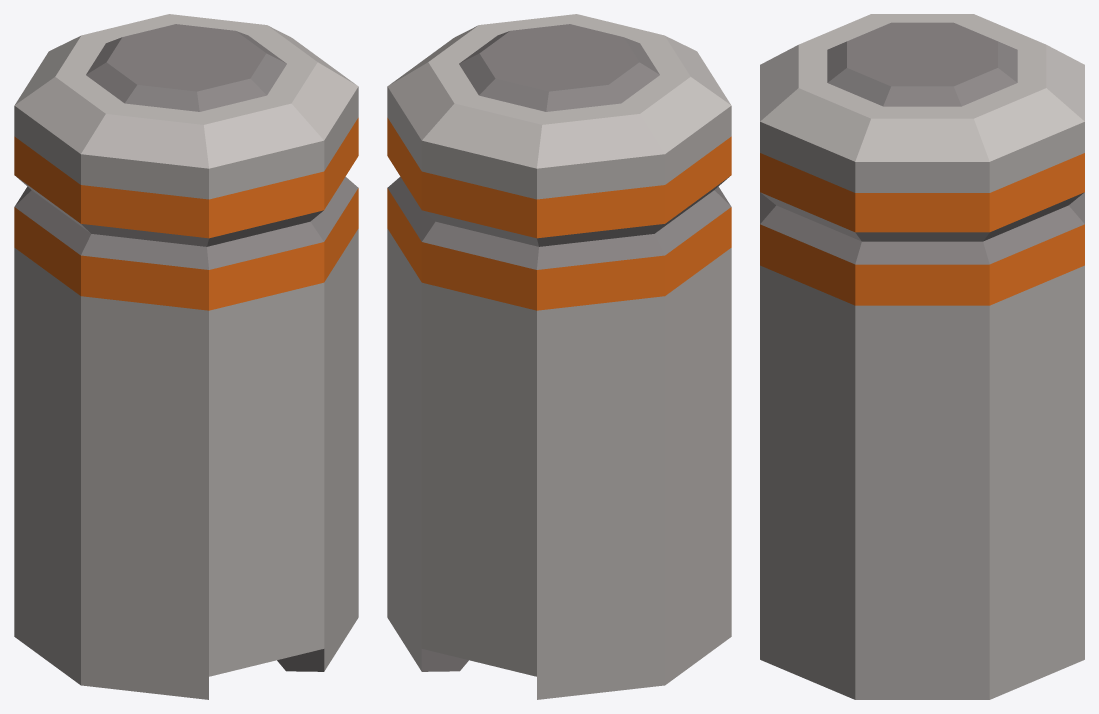
Rendered from scifi_scifi-vial.fbx.
3 views of the same model, side by side, from view 1: azimuth 30°, elevation 25°; view 2: azimuth 150°, elevation 25°; view 3: azimuth 270°, elevation 25° (orthographic).
Visible parts, largest first — view 1: scifi_scifi_vial; view 2: scifi_scifi_vial; view 3: scifi_scifi_vial.
Boxes of the visible parts, bbox=[...] form: scifi_scifi_vial: bbox=[14, 14, 358, 699]; scifi_scifi_vial: bbox=[387, 14, 731, 699]; scifi_scifi_vial: bbox=[760, 14, 1084, 699].
Size of the model in its own units: 100 by 200 by 100.
